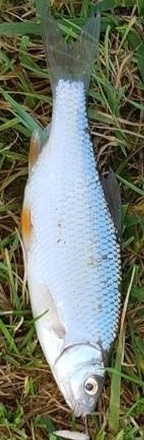Rutilus rutilus: (20, 20, 124, 420)
